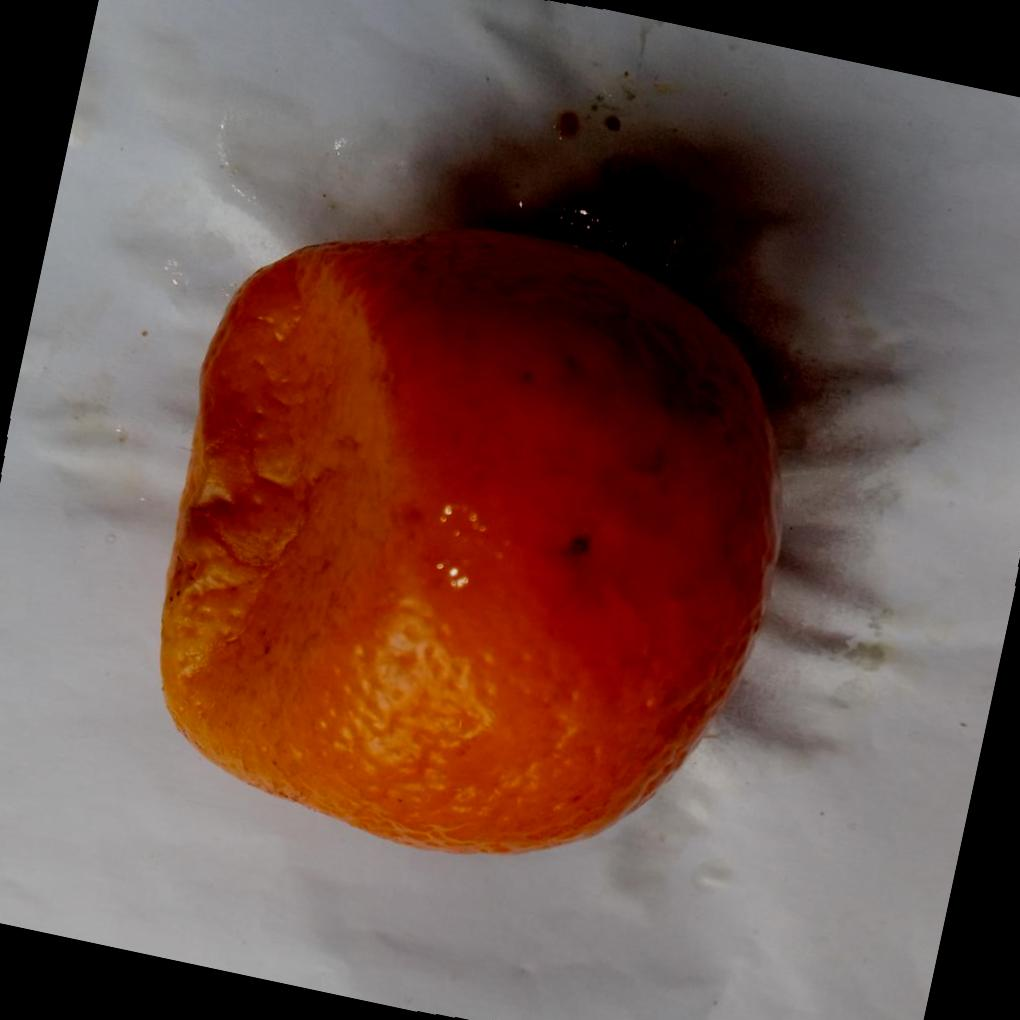FreshOrange: (153, 225, 779, 855)
